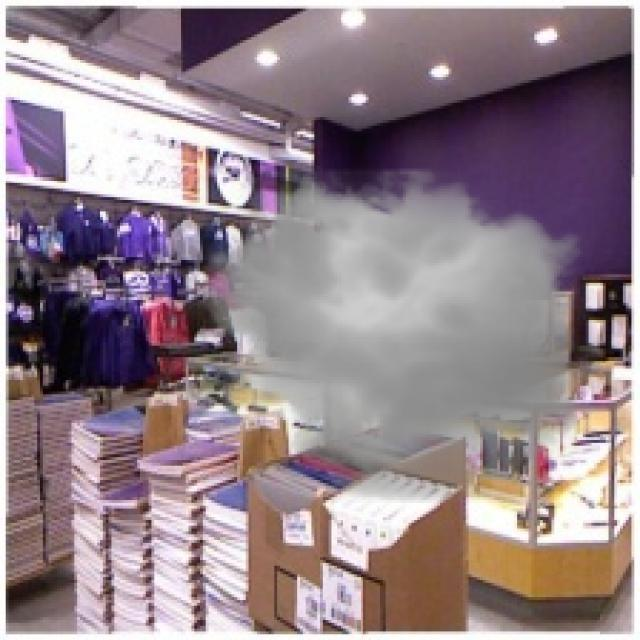Smoke: (185, 155, 600, 514)
